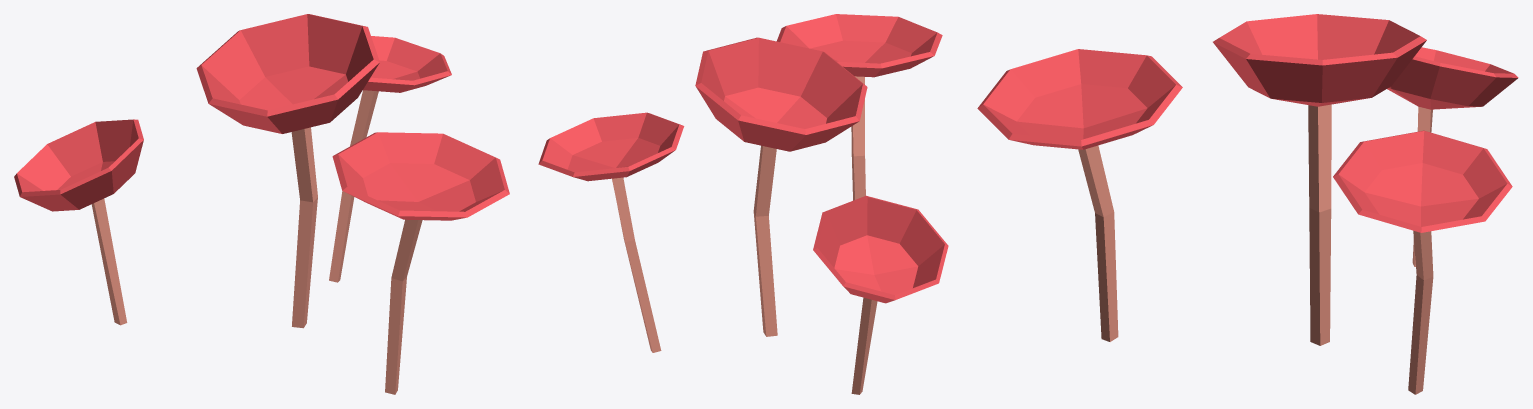
The model's file is Mushroom_d_04.fbx.
3 renders of one model, left to right at view 1: azimuth 30°, elevation 25°; view 2: azimuth 150°, elevation 25°; view 3: azimuth 270°, elevation 25°, orthographic. The views are drawn at different scales.
Visible parts, largest first — view 1: Mushroom_d_04; view 2: Mushroom_d_04; view 3: Mushroom_d_04.
Part boxes in pixels (<box>): Mushroom_d_04: <box>14,14,509,394</box>; Mushroom_d_04: <box>538,14,948,394</box>; Mushroom_d_04: <box>977,14,1518,394</box>.
Size of the model in its own units: 0.5319 by 0.3514 by 0.5312.
